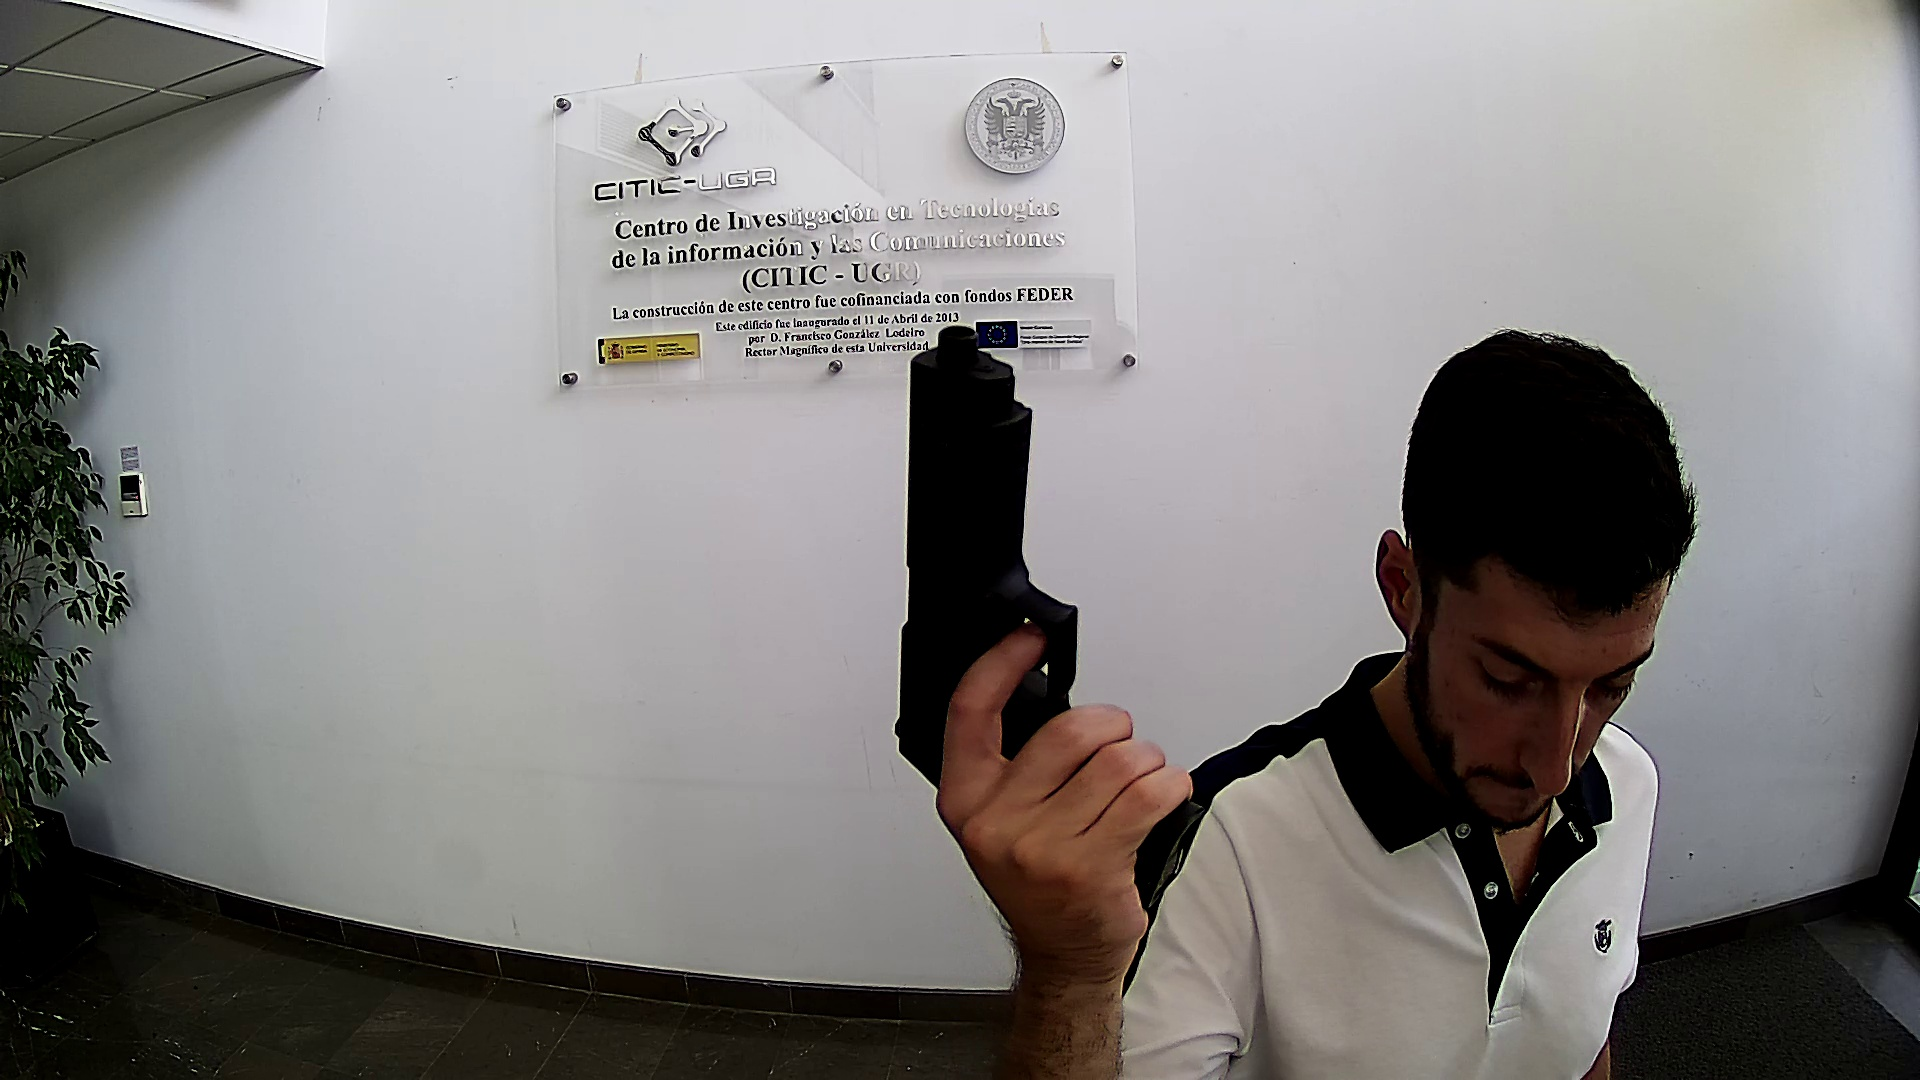pistol: (890, 324, 1205, 914)
